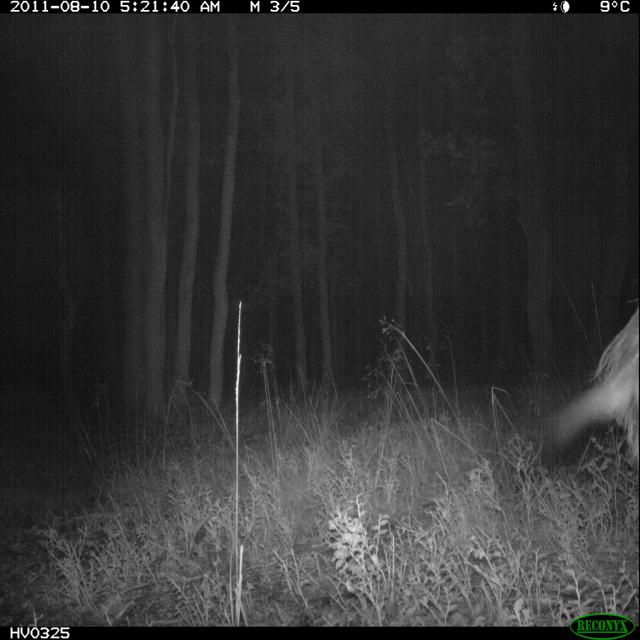boar: (535, 271, 640, 486)
